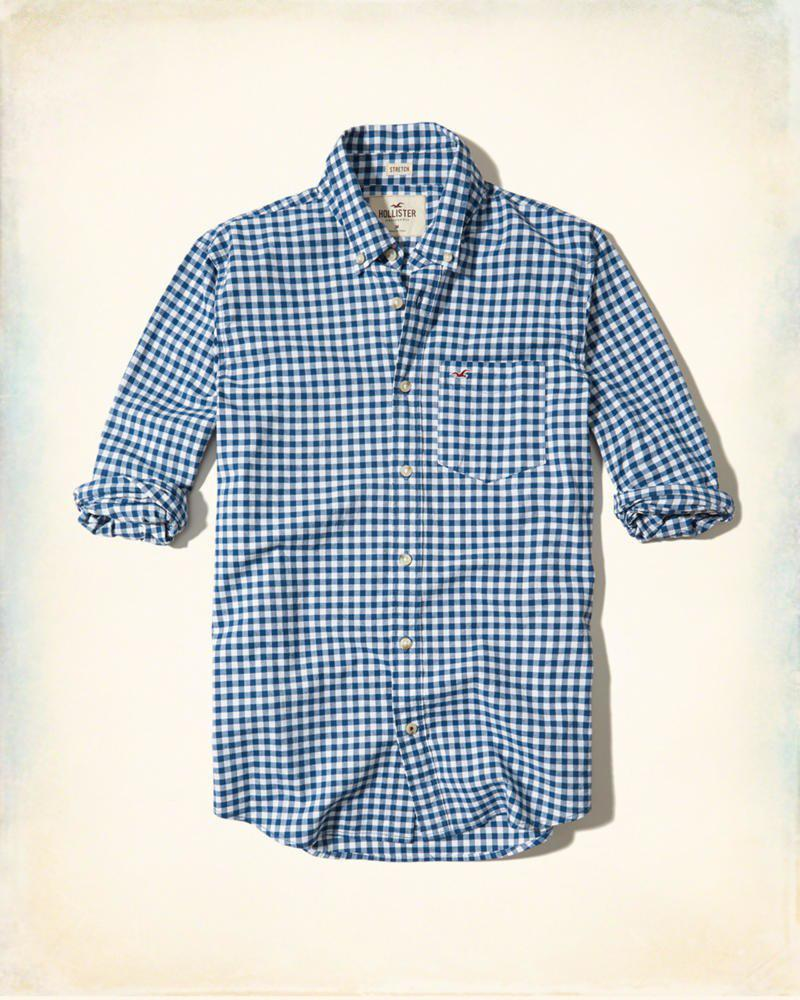teeshirt: (73, 115, 744, 892)
